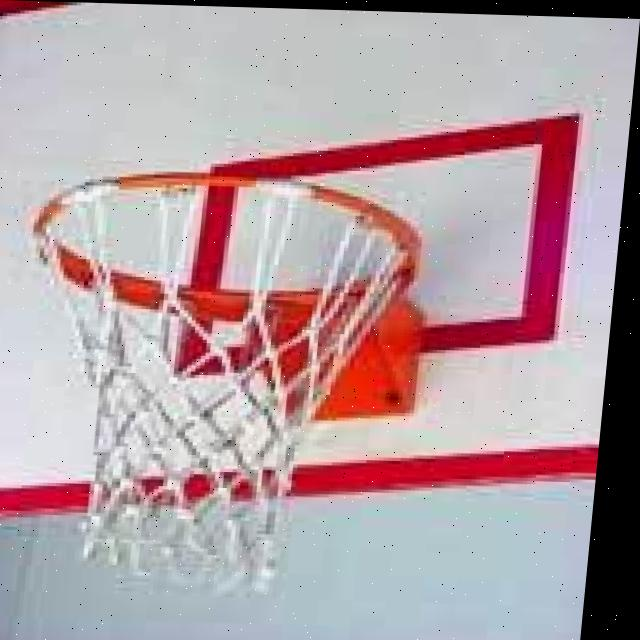hoop: (0, 165, 408, 607)
